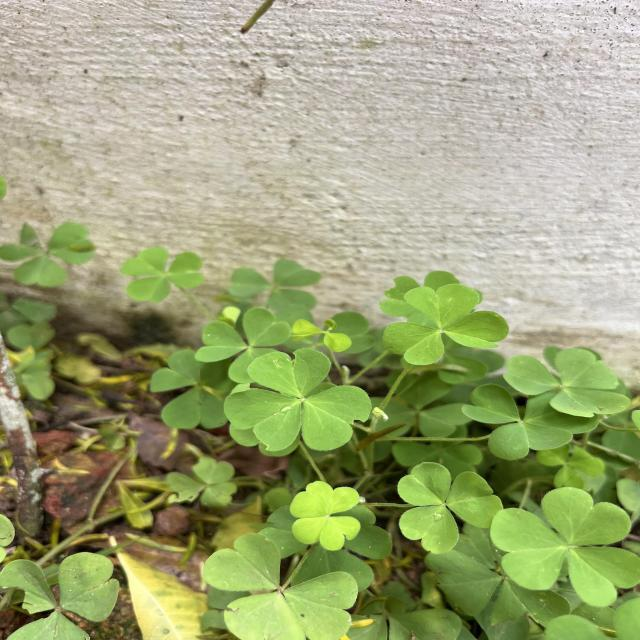Oxalis corniculata: (489, 485, 640, 611), (200, 528, 360, 640), (222, 347, 374, 452), (0, 549, 125, 640), (461, 382, 598, 462), (380, 283, 510, 367), (394, 458, 504, 557), (501, 346, 632, 421), (193, 306, 292, 386), (287, 478, 365, 552), (120, 244, 208, 304)
